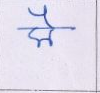au_matra: (34, 6, 58, 39)
